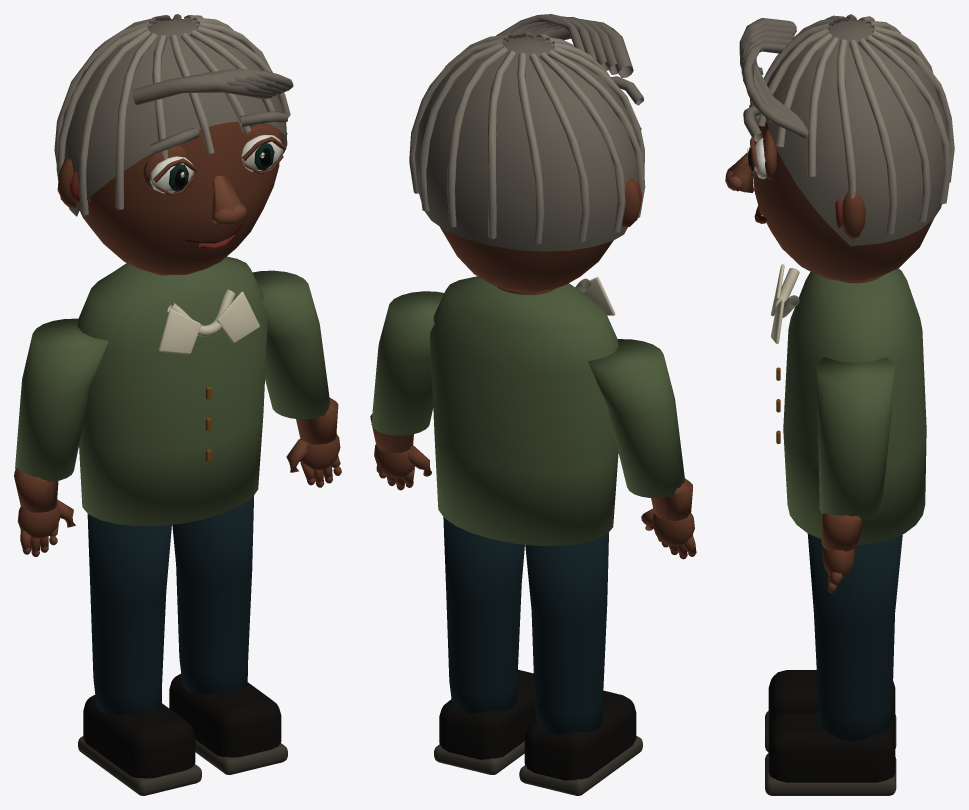
Rendered from patient-23.glb.
3 renders of one model, left to right at view 1: azimuth 30°, elevation 25°; view 2: azimuth 150°, elevation 25°; view 3: azimuth 270°, elevation 25°, orthographic.
Visible parts, largest first — view 1: Head, Body, LegL, LegR, ArmL, ArmR; view 2: Head, Body, LegL, LegR, ArmL, ArmR; view 3: Head, Body, LegR, ArmR, LegL.
Part boxes in pixels (bbox=[...]): Head: bbox=[54, 14, 293, 275]; Body: bbox=[77, 256, 267, 525]; LegL: bbox=[78, 514, 201, 795]; LegR: bbox=[169, 496, 287, 774]; ArmL: bbox=[14, 318, 108, 556]; ArmR: bbox=[252, 270, 341, 487]; Head: bbox=[409, 14, 645, 292]; Body: bbox=[430, 276, 618, 545]; LegL: bbox=[519, 532, 642, 795]; LegR: bbox=[434, 517, 536, 774]; ArmL: bbox=[587, 339, 696, 559]; ArmR: bbox=[370, 291, 444, 490]; Head: bbox=[725, 14, 954, 281]; Body: bbox=[771, 264, 926, 544]; LegR: bbox=[765, 533, 902, 795]; ArmR: bbox=[816, 357, 894, 593]; LegL: bbox=[765, 670, 896, 752].
Bounding box in the file's own units: 0.6207 × 1.35 × 0.3819.
